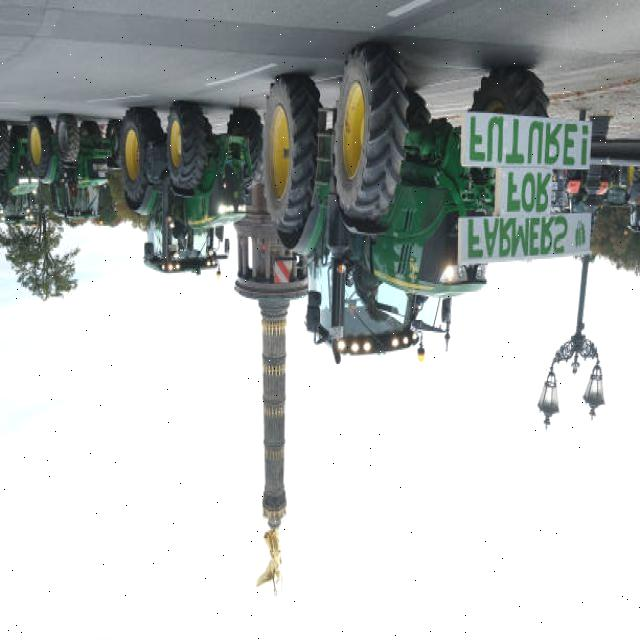Tratores - v5 YOLO V8L 2024-11-13: (262, 50, 560, 368), (117, 88, 265, 302), (27, 115, 114, 228)
